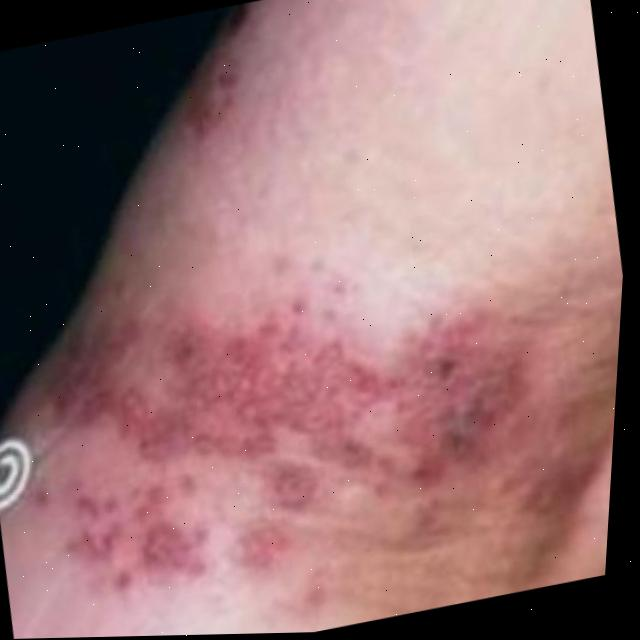Shingles: (0, 212, 566, 616)
